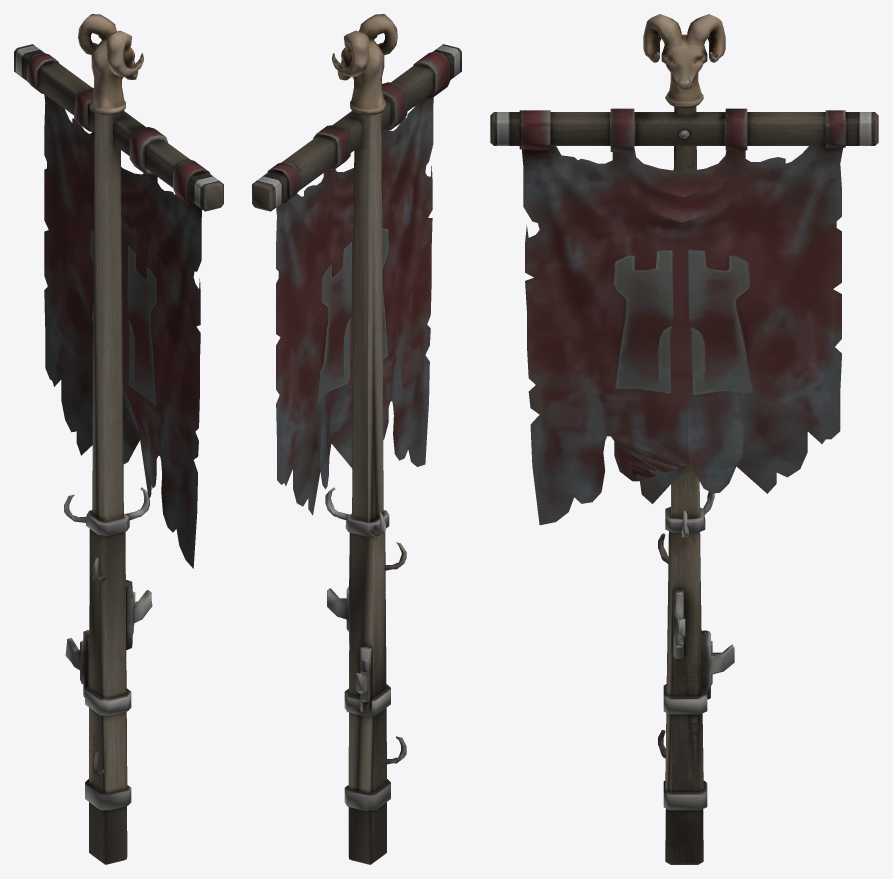
File: standard.glb
The picture shows the model from 3 angles, left to right: view 1: azimuth 30°, elevation 25°; view 2: azimuth 150°, elevation 25°; view 3: azimuth 270°, elevation 25°; orthographic projection.
Parts seen in each view (by area): view 1: model; view 2: model; view 3: model.
Part boxes in pixels (left/top/right/bottom): model: left=14, top=14, right=223, bottom=864; model: left=252, top=14, right=461, bottom=864; model: left=490, top=14, right=878, bottom=864.
Size of the model in its own units: 0.092 by 1 by 0.4168.
Materials: 1 (1 with a texture image).
